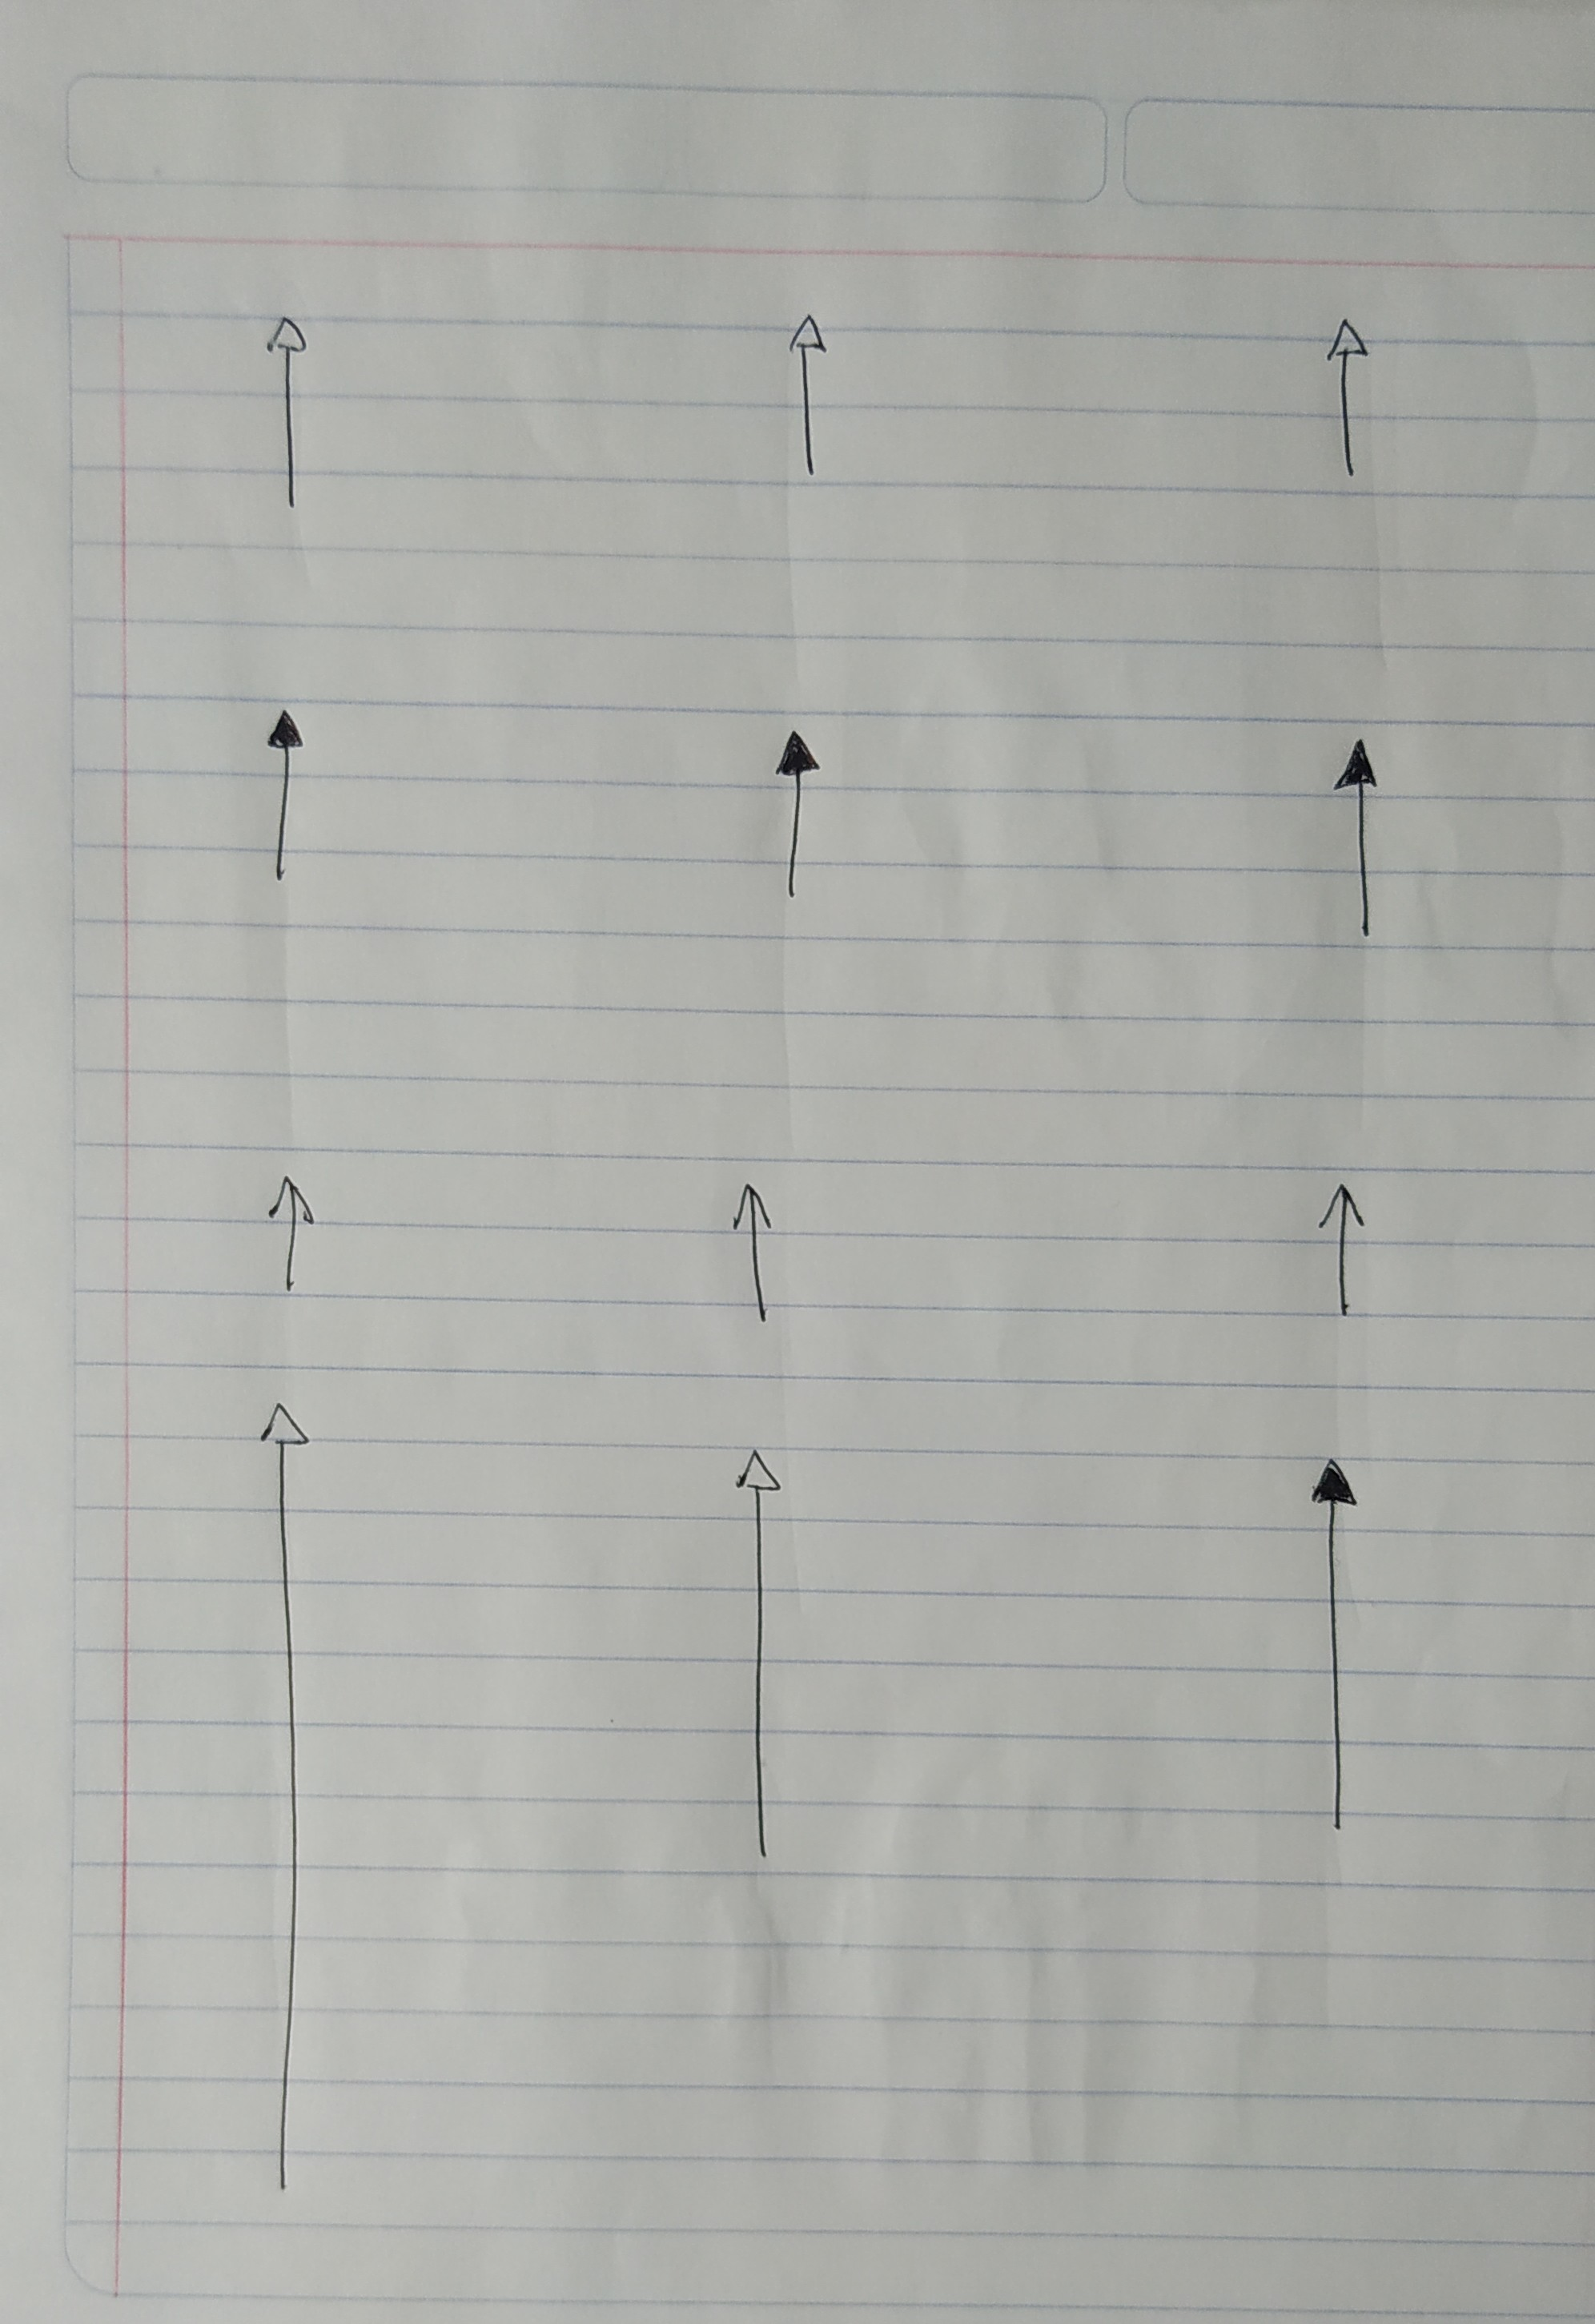arrow_line_up: (256, 1400, 311, 2195), (729, 1446, 784, 1868), (1307, 1455, 1360, 1830), (1321, 314, 1376, 484), (265, 311, 311, 512), (1335, 733, 1380, 939), (768, 728, 821, 897), (728, 1180, 786, 1324), (1314, 1180, 1371, 1317), (263, 706, 306, 887), (784, 309, 827, 480), (265, 1171, 314, 1302)
